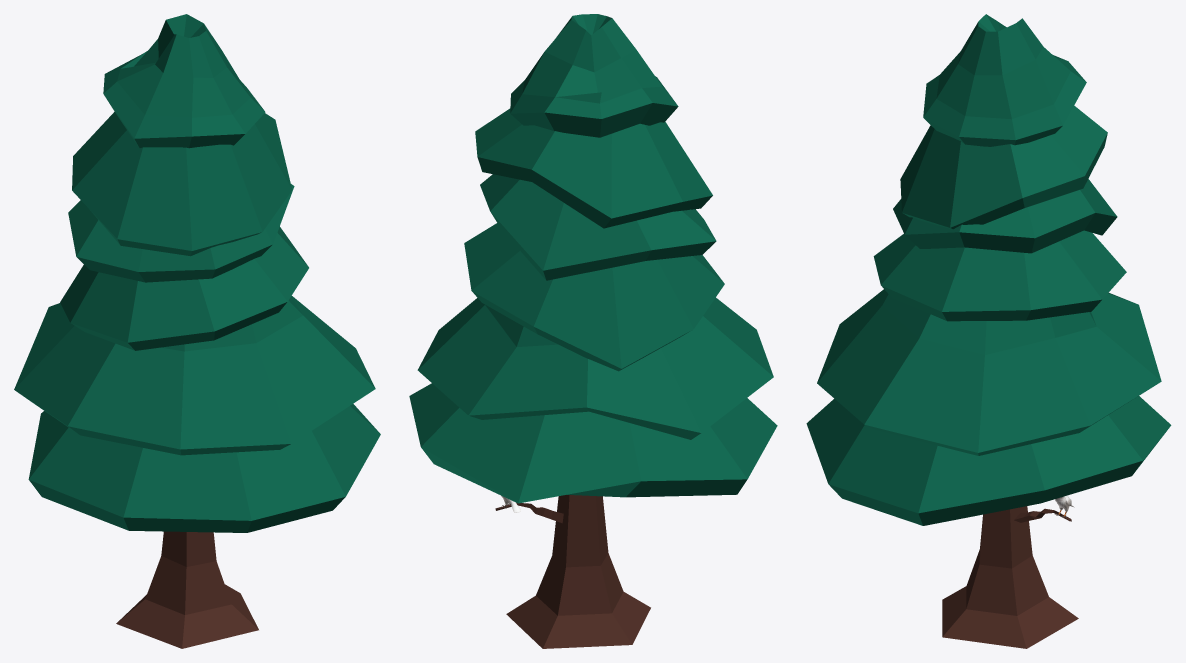
The model's file is tree_with_raven.fbx.
3 renders of one model, left to right at view 1: azimuth 30°, elevation 25°; view 2: azimuth 150°, elevation 25°; view 3: azimuth 270°, elevation 25°, orthographic.
Visible parts, largest first — view 1: Tree_Bottom1, Tree_Bottom1.001; view 2: Tree_Bottom1, Tree_Bottom1.001; view 3: Tree_Bottom1, Tree_Bottom1.001.
Boxes of the visible parts, x1,y1,x2,y2 form: Tree_Bottom1: [14, 14, 380, 532]; Tree_Bottom1.001: [116, 531, 258, 648]; Tree_Bottom1: [409, 14, 777, 503]; Tree_Bottom1.001: [495, 495, 650, 648]; Tree_Bottom1: [806, 14, 1171, 525]; Tree_Bottom1.001: [942, 506, 1078, 648].
Size of the model in its own units: 192 by 347 by 192.
3 materials, 1 textured.
